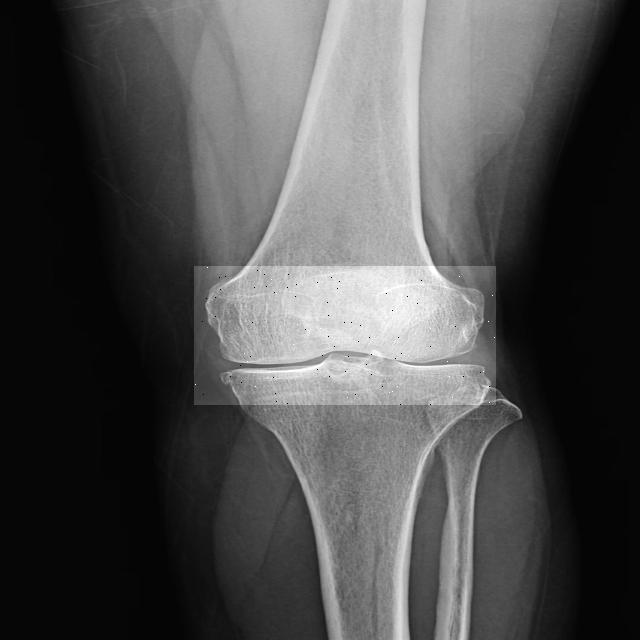normal: (194, 266, 496, 405)
